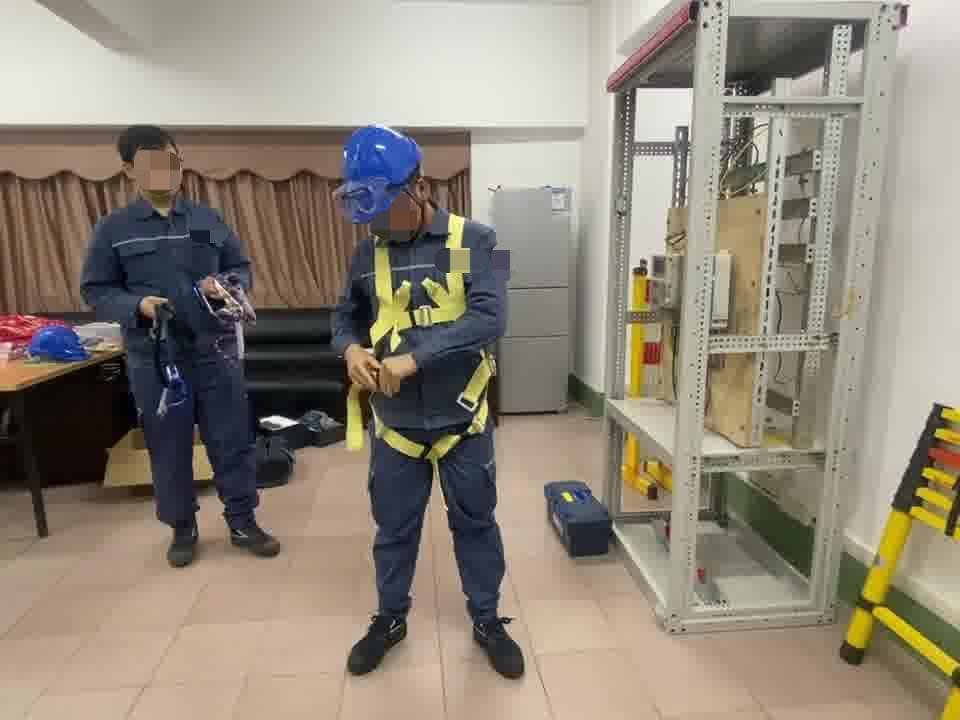halt: (341, 128, 431, 235)
inear: (404, 175, 438, 217)
unhalt: (120, 129, 188, 205)
